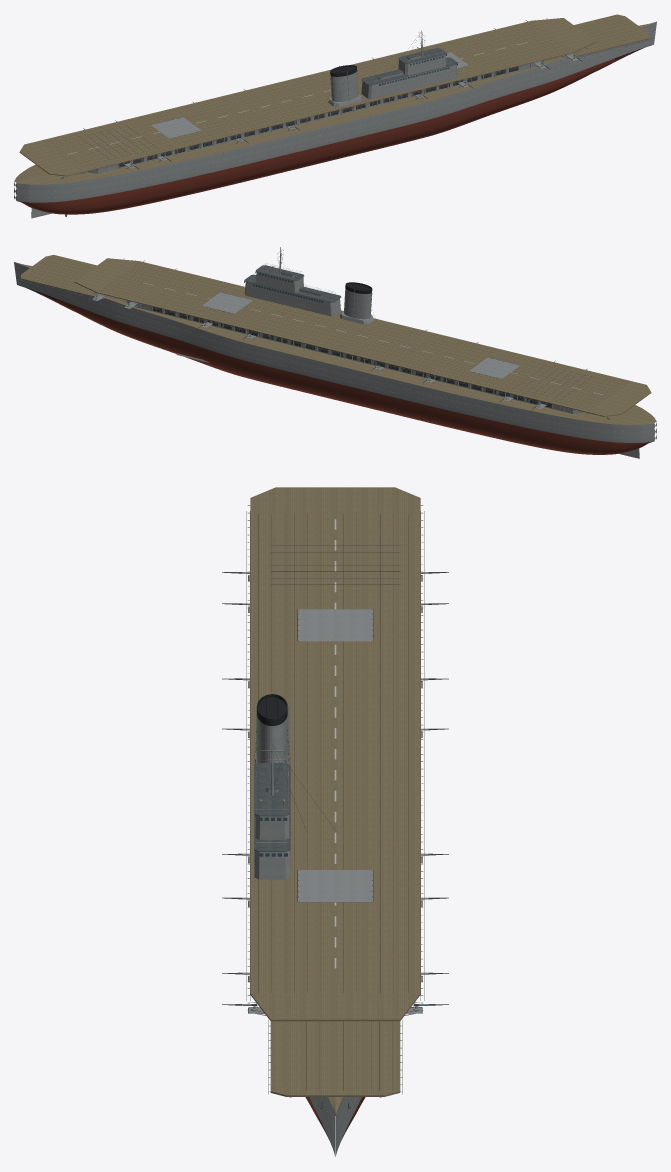
The model's file is courageous_1922_cv.glb.
The picture shows the model from 3 angles, top to bottom: view 1: azimuth 30°, elevation 25°; view 2: azimuth 150°, elevation 25°; view 3: azimuth 270°, elevation 25°; orthographic projection. The views are drawn at different scales.
Visible parts, largest first — view 1: Courageous carrier conversion; view 2: Courageous carrier conversion; view 3: Courageous carrier conversion.
Part boxes in pixels (x1,y1,x2,y2): Courageous carrier conversion: [14, 14, 656, 218]; Courageous carrier conversion: [14, 247, 656, 458]; Courageous carrier conversion: [222, 487, 448, 1156].
Bounding box in the file's own units: 240 × 39.47 × 36.7.
Materials: 9 (8 with a texture image).
